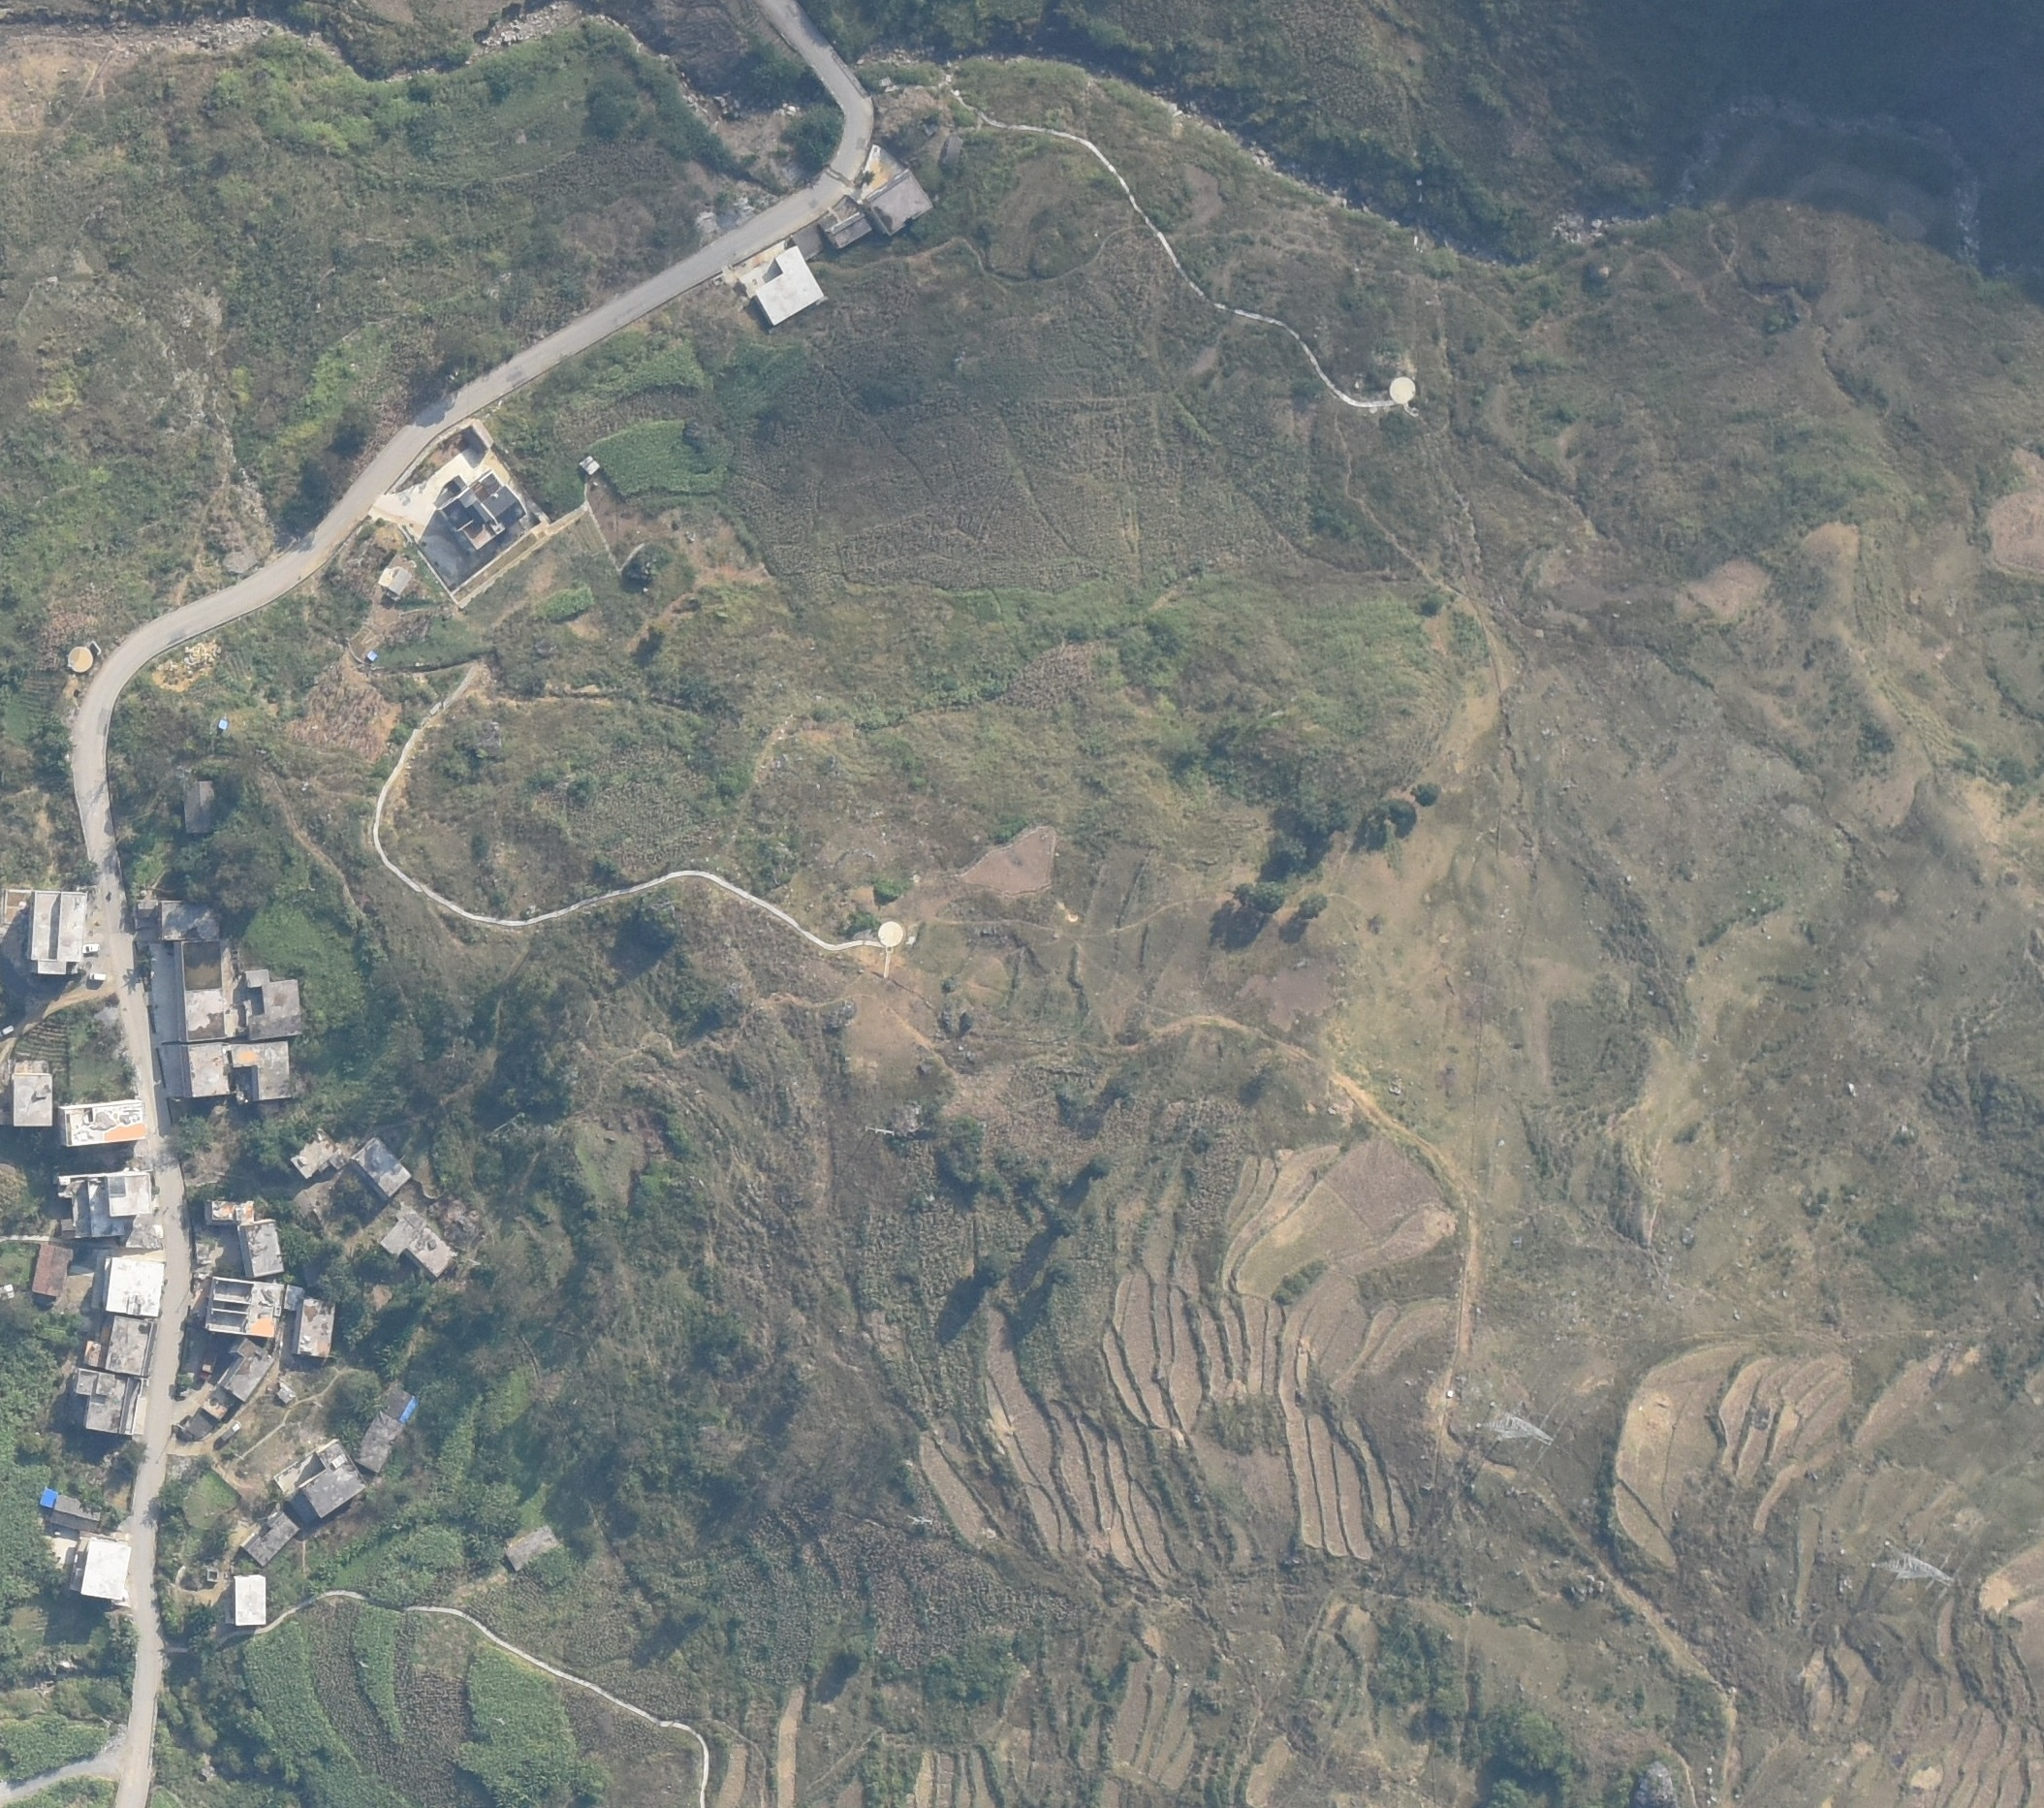building: (272, 1436, 363, 1520), (438, 469, 527, 551), (736, 246, 821, 325), (56, 1176, 162, 1239), (356, 1384, 420, 1478), (382, 1208, 459, 1279), (75, 1368, 150, 1440), (92, 1248, 162, 1318), (176, 941, 223, 1042), (26, 892, 82, 974), (863, 166, 930, 234), (206, 1277, 277, 1339), (58, 1099, 145, 1147), (85, 1316, 153, 1375), (72, 1534, 129, 1602), (352, 1138, 413, 1199), (239, 1510, 298, 1569), (223, 1335, 276, 1401), (3, 1059, 54, 1127), (232, 1042, 290, 1099), (246, 981, 302, 1040), (291, 1126, 347, 1181), (506, 1525, 563, 1576), (239, 1218, 286, 1277), (185, 1044, 230, 1098), (30, 1241, 73, 1297), (295, 1298, 335, 1358), (160, 901, 221, 939), (52, 1492, 106, 1534), (181, 780, 220, 834), (234, 1576, 269, 1628), (823, 211, 874, 246), (204, 1199, 256, 1223), (377, 564, 413, 599), (790, 225, 825, 260), (460, 419, 494, 455), (201, 1398, 228, 1421), (284, 1284, 307, 1312), (242, 972, 270, 990), (581, 455, 602, 476), (133, 901, 159, 916)
cable-tower: (1871, 1541, 1959, 1588), (1477, 1405, 1554, 1452)
prefabricated-house: (38, 1487, 58, 1513)
vehicle: (221, 1421, 242, 1443), (82, 942, 101, 955), (87, 972, 106, 983)
well: (1388, 375, 1418, 407), (66, 646, 92, 674), (877, 920, 903, 948)
